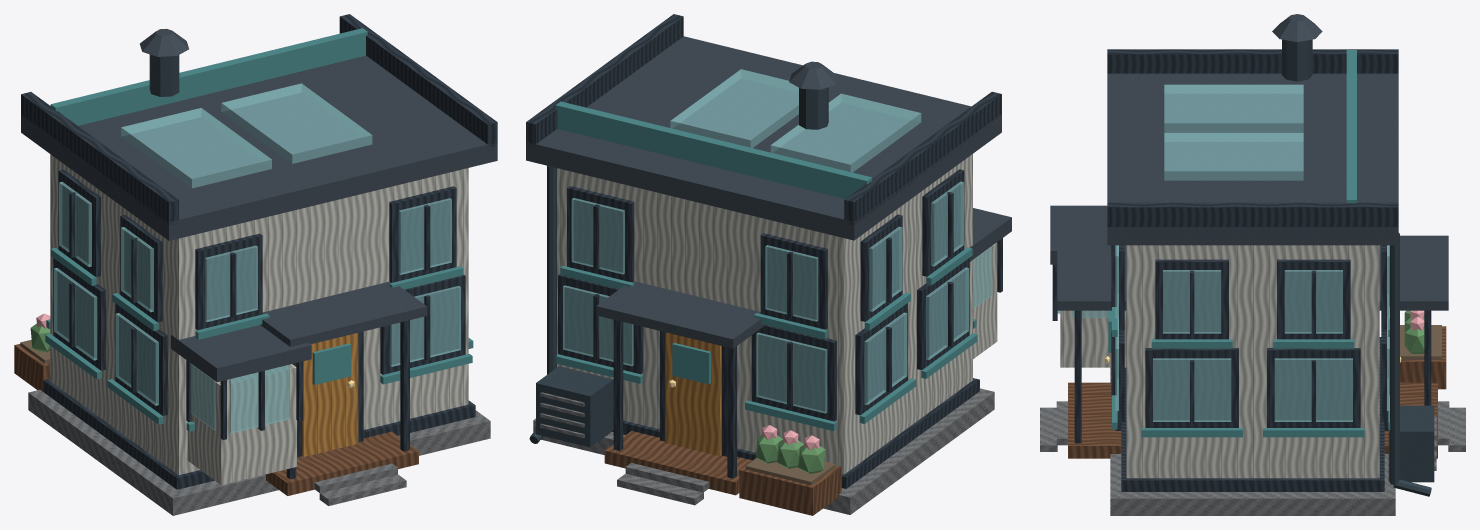
File: house_modern_lv2_bay.glb
3 renders of one model, left to right at view 1: azimuth 30°, elevation 25°; view 2: azimuth 150°, elevation 25°; view 3: azimuth 270°, elevation 25°, orthographic.
Visible parts, largest first — view 1: flat_roof, walls, bay_base, foundation, roof_terrace, solar_panel.001, solar_panel, front_porch_canopy, front_window_frame.002, front_window_frame.003, front_door, parapet (+33 smaller); view 2: flat_roof, walls, roof_terrace, solar_panel, solar_panel.001, back_window_frame, back_porch_canopy, foundation, back_door, back_window_frame.002, back_window_frame.003, parapet (+42 smaller); view 3: flat_roof, walls, foundation, parapet.001, right_window_frame, right_window_frame.001, solar_panel.001, solar_panel, parapet, right_window_frame.002, right_window_frame.003, right_window_glass (+32 smaller).
Boxes of the visible parts, x1=… form: flat_roof: x1=21, y1=55, x2=497, y2=240; walls: x1=50, y1=154, x2=468, y2=474; bay_base: x1=187, y1=364, x2=296, y2=485; foundation: x1=28, y1=389, x2=490, y2=515; roof_terrace: x1=50, y1=28, x2=367, y2=125; solar_panel.001: x1=221, y1=83, x2=372, y2=163; solar_panel: x1=121, y1=108, x2=271, y2=188; front_porch_canopy: x1=260, y1=281, x2=427, y2=346; front_window_frame.002: x1=195, y1=233, x2=262, y2=330; front_window_frame.003: x1=389, y1=186, x2=456, y2=282; front_door: x1=301, y1=333, x2=358, y2=456; parapet: x1=21, y1=92, x2=178, y2=225; flat_roof: x1=526, y1=36, x2=1001, y2=240; walls: x1=557, y1=154, x2=972, y2=474; roof_terrace: x1=555, y1=101, x2=872, y2=198; solar_panel: x1=770, y1=93, x2=921, y2=172; solar_panel.001: x1=670, y1=69, x2=798, y2=147; back_window_frame: x1=751, y1=325, x2=836, y2=421; back_porch_canopy: x1=596, y1=281, x2=764, y2=348; foundation: x1=533, y1=388, x2=994, y2=514; back_door: x1=665, y1=332, x2=721, y2=456; back_window_frame.002: x1=760, y1=233, x2=827, y2=329; back_window_frame.003: x1=567, y1=186, x2=634, y2=282; parapet: x1=844, y1=91, x2=1001, y2=224; flat_roof: x1=1107, y1=73, x2=1398, y2=245; walls: x1=1126, y1=245, x2=1379, y2=478; foundation: x1=1110, y1=367, x2=1395, y2=515; parapet.001: x1=1107, y1=202, x2=1398, y2=229; right_window_frame: x1=1145, y1=348, x2=1238, y2=427; right_window_frame.001: x1=1267, y1=348, x2=1360, y2=427; solar_panel.001: x1=1164, y1=132, x2=1303, y2=180; solar_panel: x1=1164, y1=84, x2=1303, y2=132; parapet: x1=1107, y1=49, x2=1398, y2=73; right_window_frame.002: x1=1155, y1=259, x2=1228, y2=339; right_window_frame.003: x1=1277, y1=259, x2=1350, y2=339; right_window_glass: x1=1153, y1=358, x2=1231, y2=421.
Size of the model in its own units: 2.95 by 3.37 by 3.36.
Materials: 13 (7 with a texture image).
